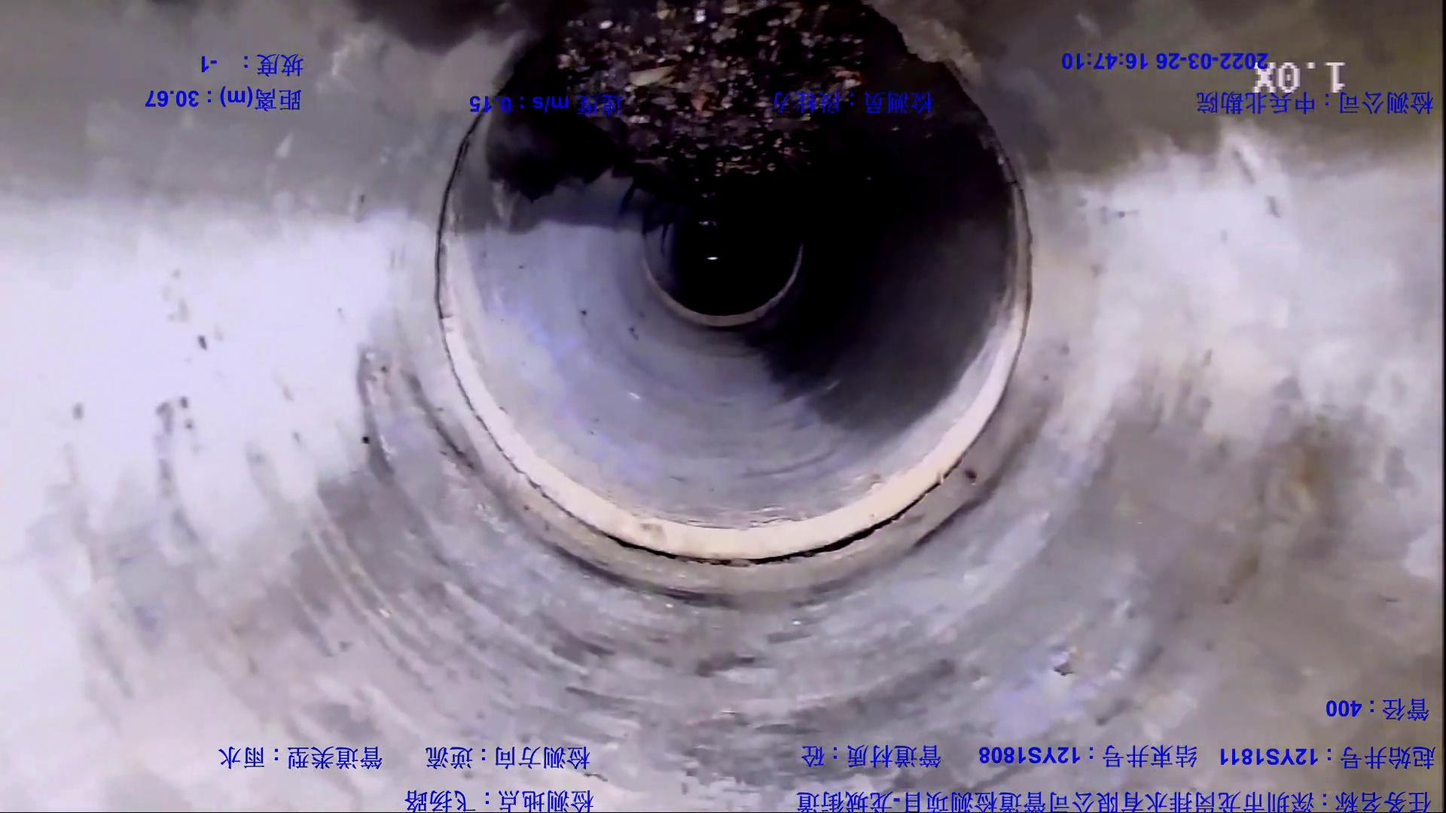CJ: (555, 1, 869, 198)
CKTJ: (435, 114, 1031, 562), (647, 248, 804, 327)
